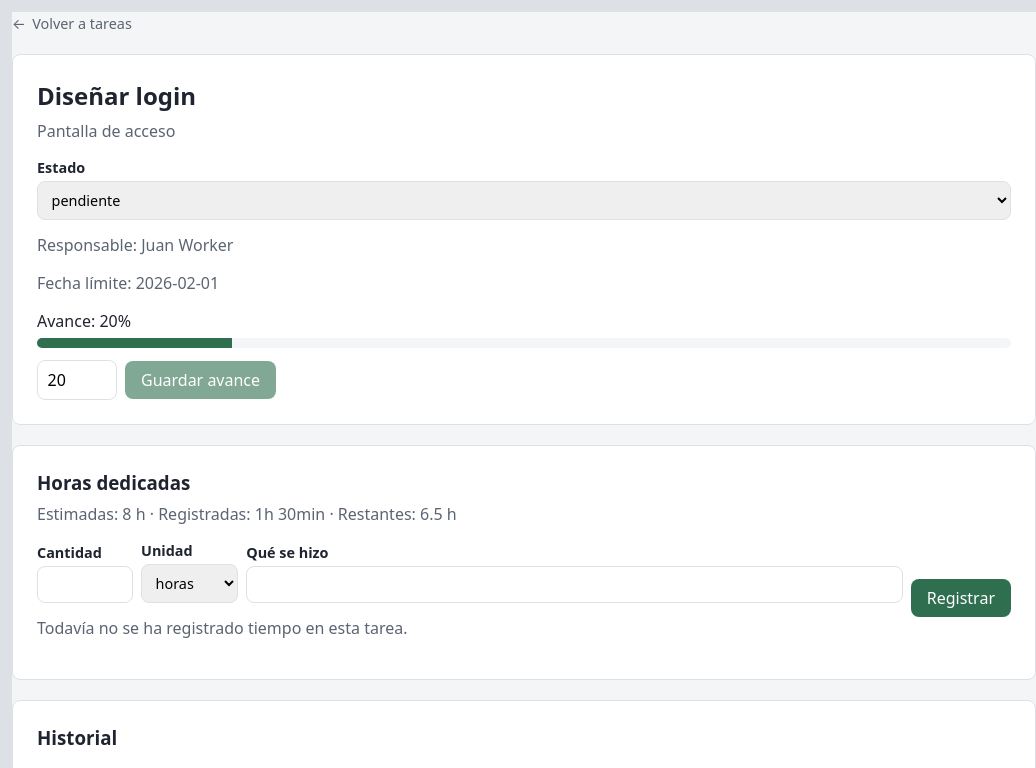
Test: SupervisorTaskDetail › muestra un error si falla el cambio de estado
expect the heading "Diseñar login" is shown: met, box [37,79,196,112]
Select "hecha" in the dropdown labelled "Estado". click: (524, 200)
box: [37,181,1011,220]
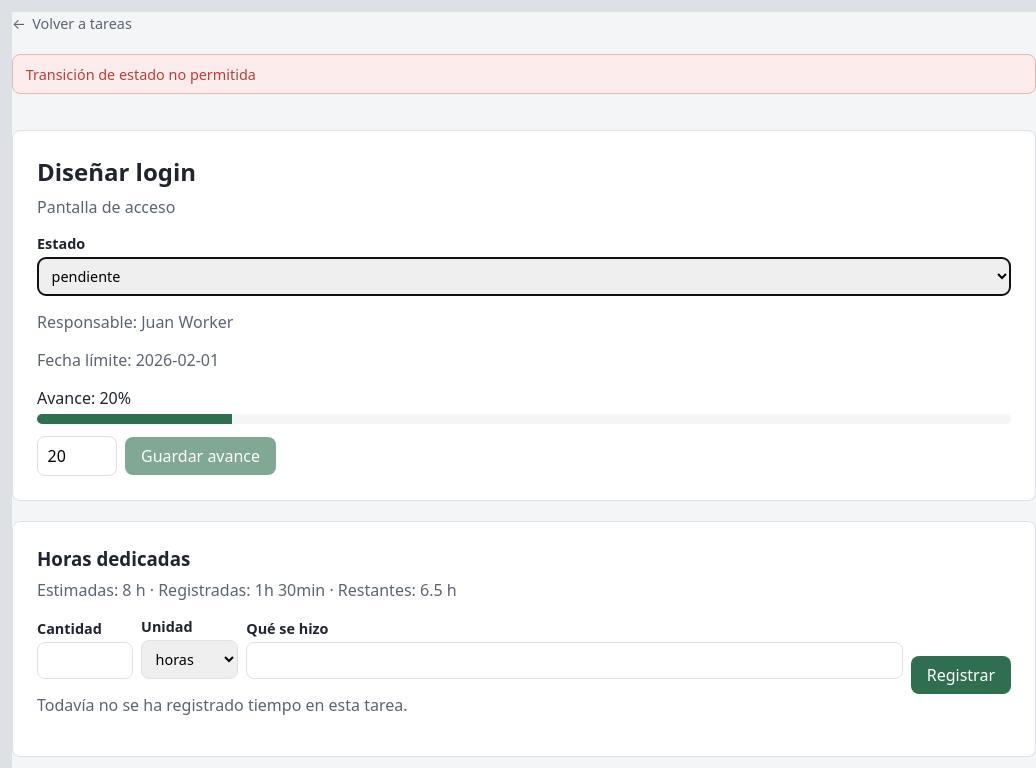
expect the text "Transición de estado no permitida" is shown: met, box [12,54,1035,94]
